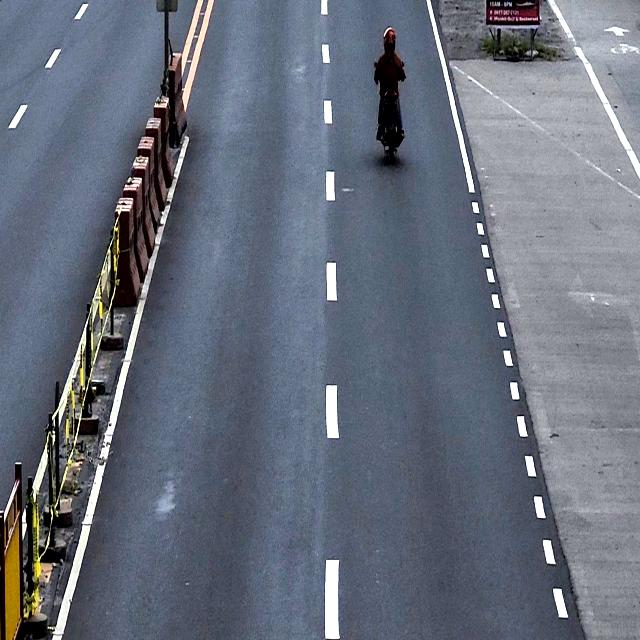Motorcycle: (374, 61, 406, 165)
